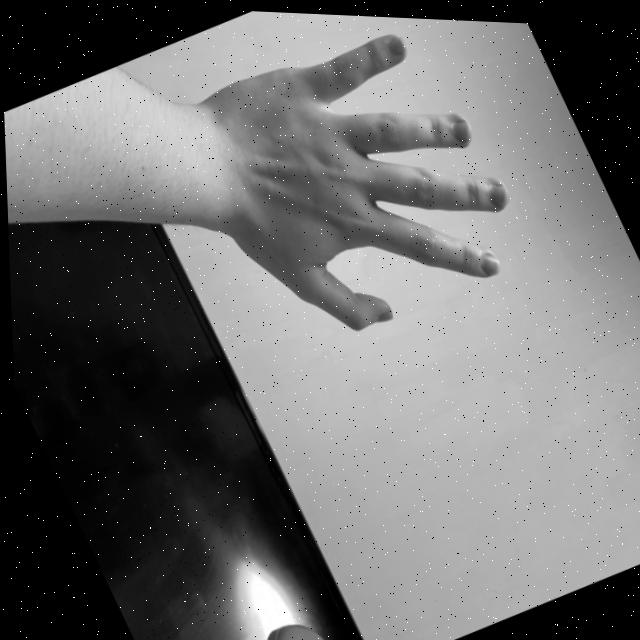hand: (181, 6, 546, 367)
